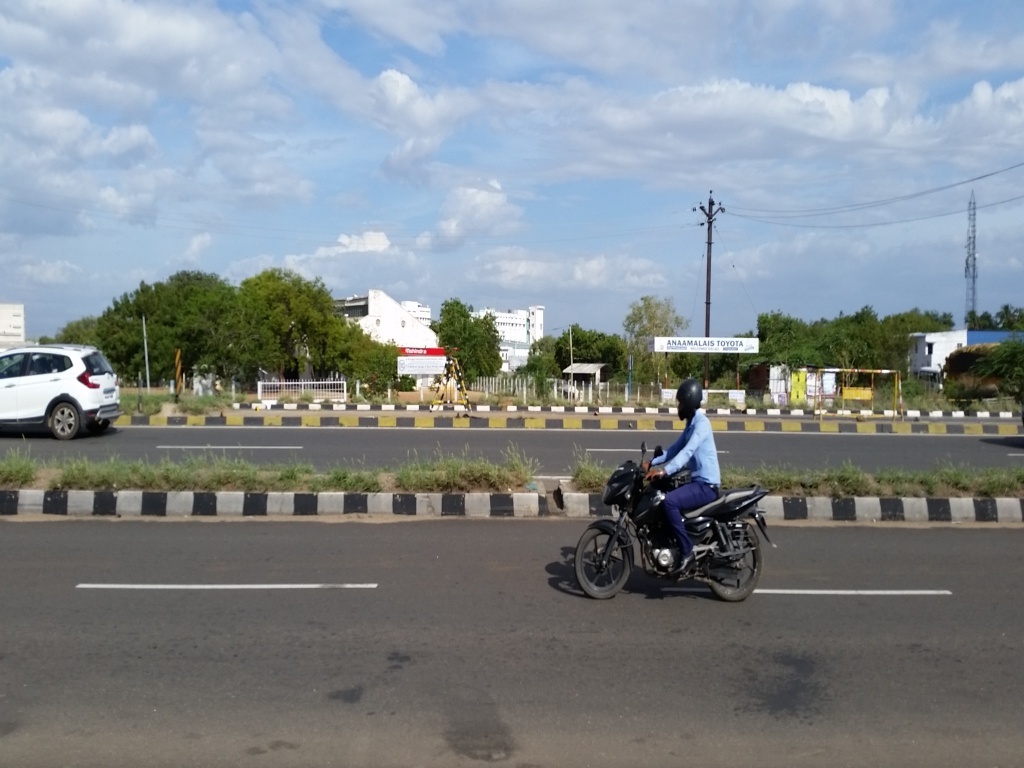biker: (555, 346, 795, 611)
helmet: (665, 366, 720, 428)
